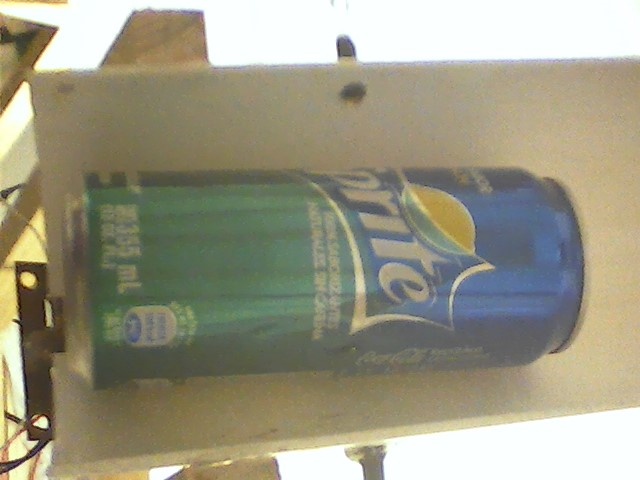lata: (53, 159, 594, 400)
